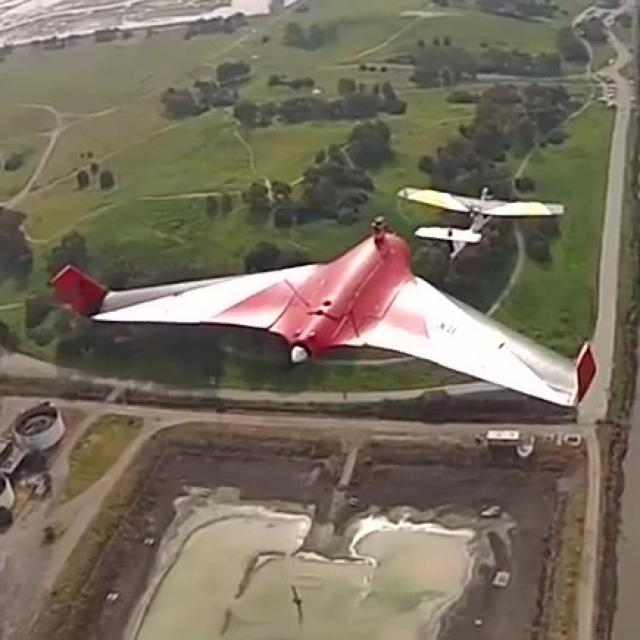iha: (45, 231, 595, 409)
